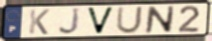2: (178, 5, 202, 33)
J: (58, 7, 82, 36)
K: (28, 8, 51, 35)
N: (144, 5, 176, 34)
U: (115, 5, 145, 35)
V: (85, 6, 116, 35)
